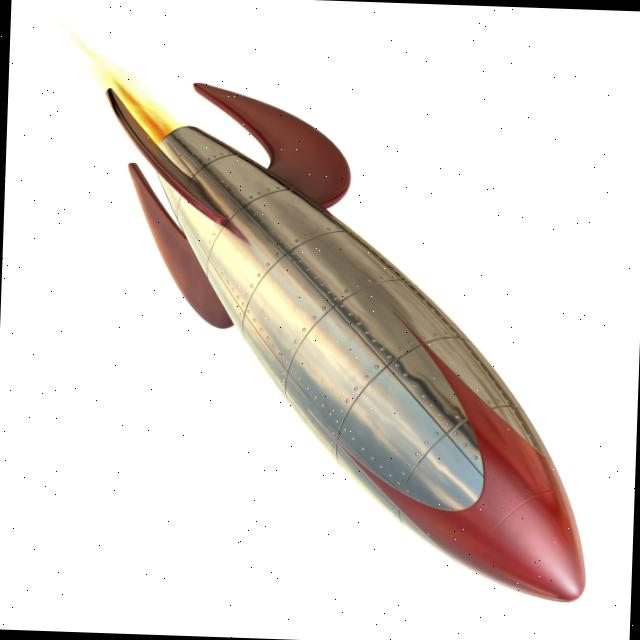rocket: (80, 72, 596, 609)
